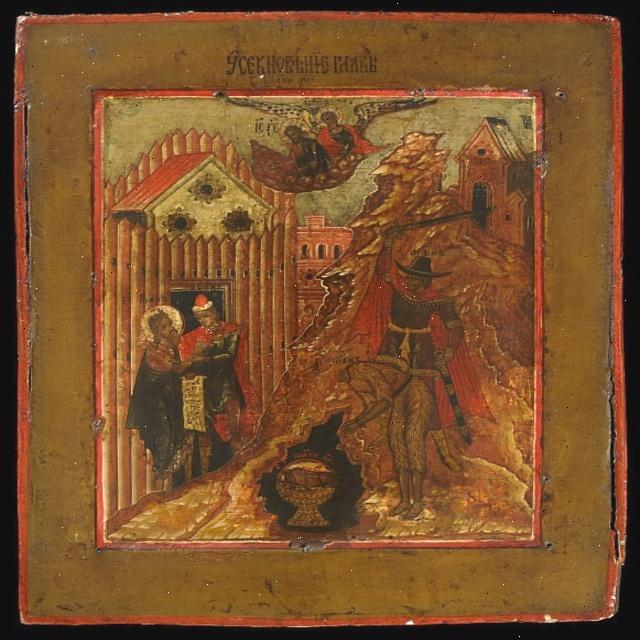angel: (315, 103, 401, 148)
aura: (139, 306, 185, 344), (278, 119, 309, 142), (309, 105, 344, 124)
saint: (121, 302, 185, 488), (279, 121, 325, 176)
scroll: (175, 375, 214, 431)
sword: (382, 202, 518, 237)
wing: (347, 99, 448, 129), (219, 93, 308, 120)
